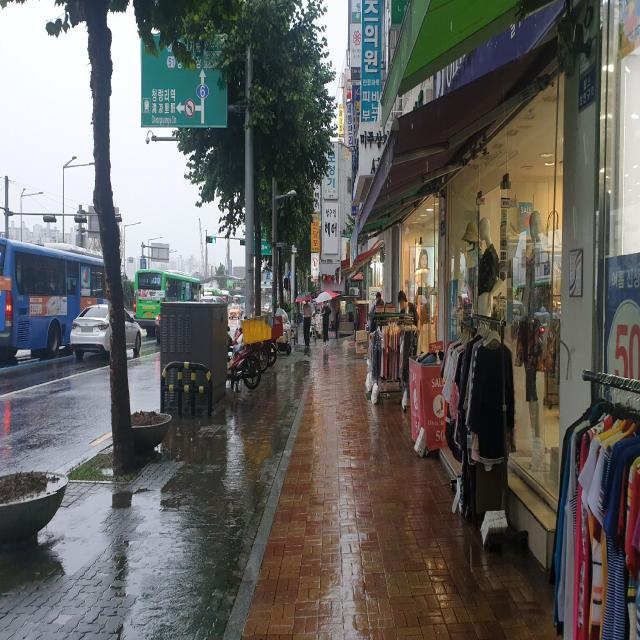car: (70, 304, 142, 358)
motorbike: (228, 315, 274, 388)
